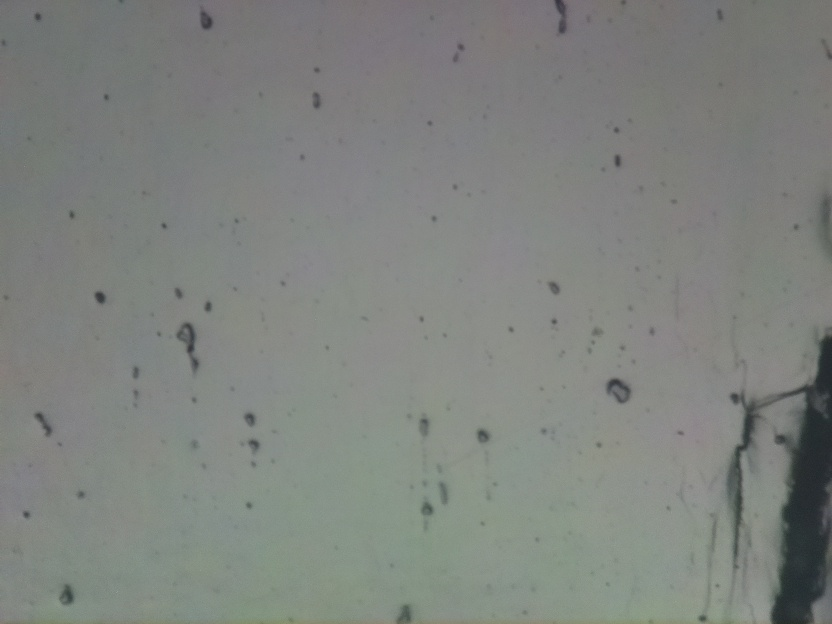crack: (775, 330, 832, 624), (718, 395, 764, 582)
